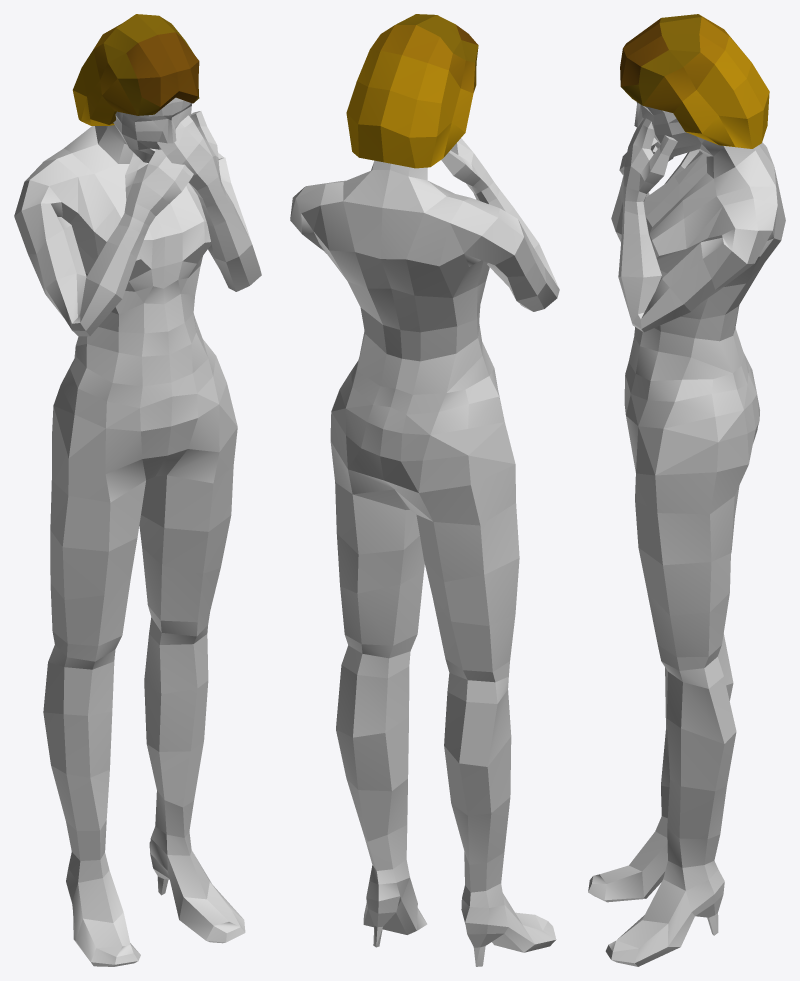
The model's file is MotherCryfbx.fbx.
3 views of the same model, side by side, from view 1: azimuth 30°, elevation 25°; view 2: azimuth 150°, elevation 25°; view 3: azimuth 270°, elevation 25° (orthographic). The views are drawn at different scales.
Parts seen in each view (by area): view 1: lpFemale_casual_G; view 2: lpFemale_casual_G; view 3: lpFemale_casual_G.
Boxes of the visible parts, box(x1,y1,x2,y2) form: lpFemale_casual_G: box(14, 14, 261, 966); lpFemale_casual_G: box(290, 14, 559, 966); lpFemale_casual_G: box(588, 14, 785, 966).
Size of the model in its own units: 0.4248 by 1.73 by 0.3373.
2 materials, 1 textured.
